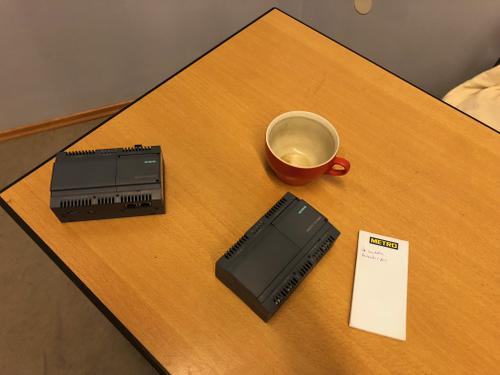device: (215, 191, 341, 323), (49, 144, 165, 223)
